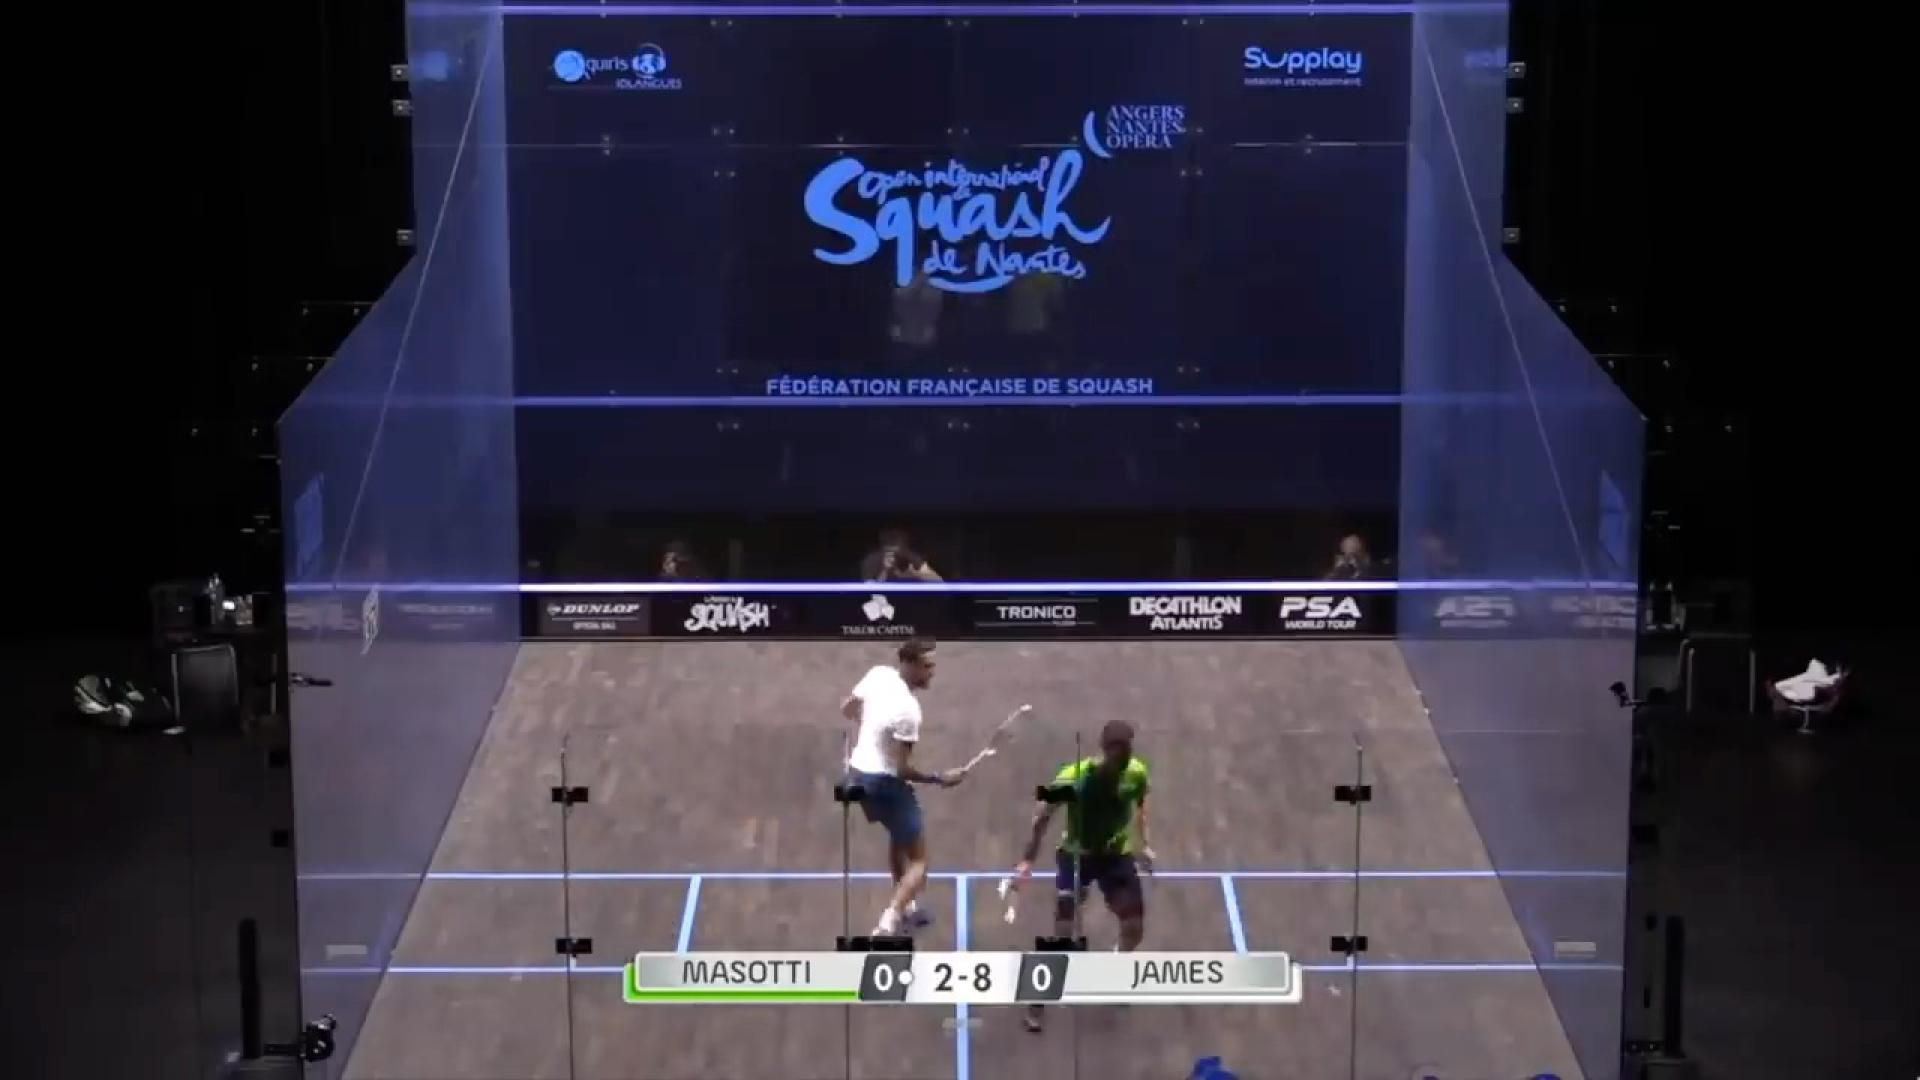Squash-Ball: (1325, 975, 1357, 1025)
